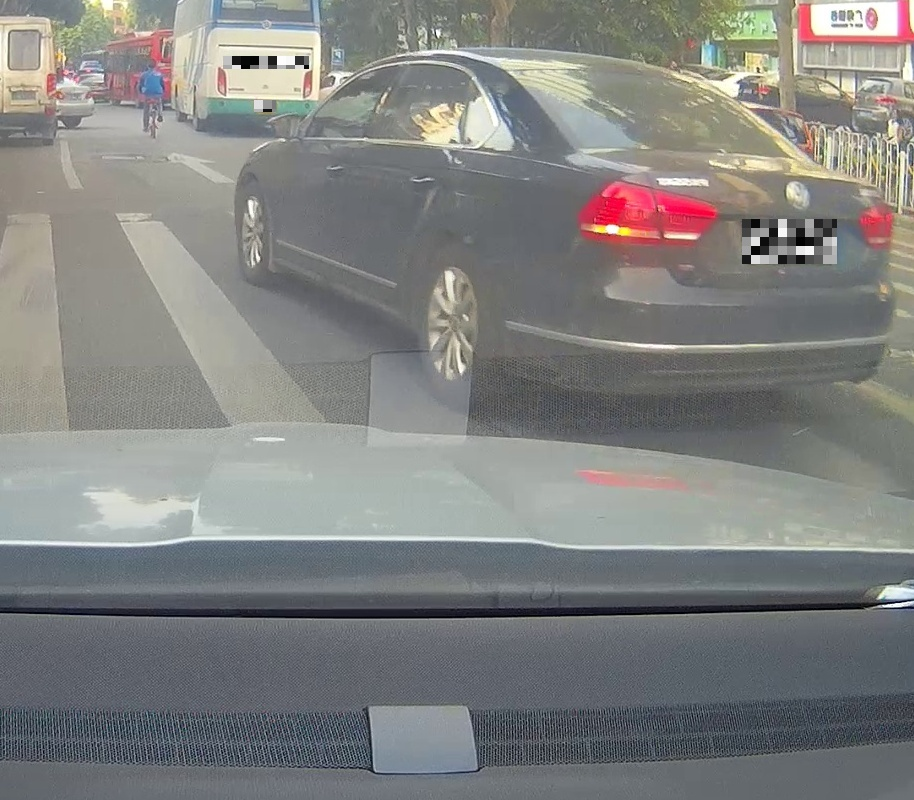L_light: (577, 178, 719, 247)
R_light: (856, 201, 892, 248)
T_light: (602, 63, 651, 77)
day-left: (493, 48, 895, 416)
plate_1: (742, 219, 837, 264)
plate_2: (223, 56, 309, 69)
plate_3: (254, 100, 276, 112)
